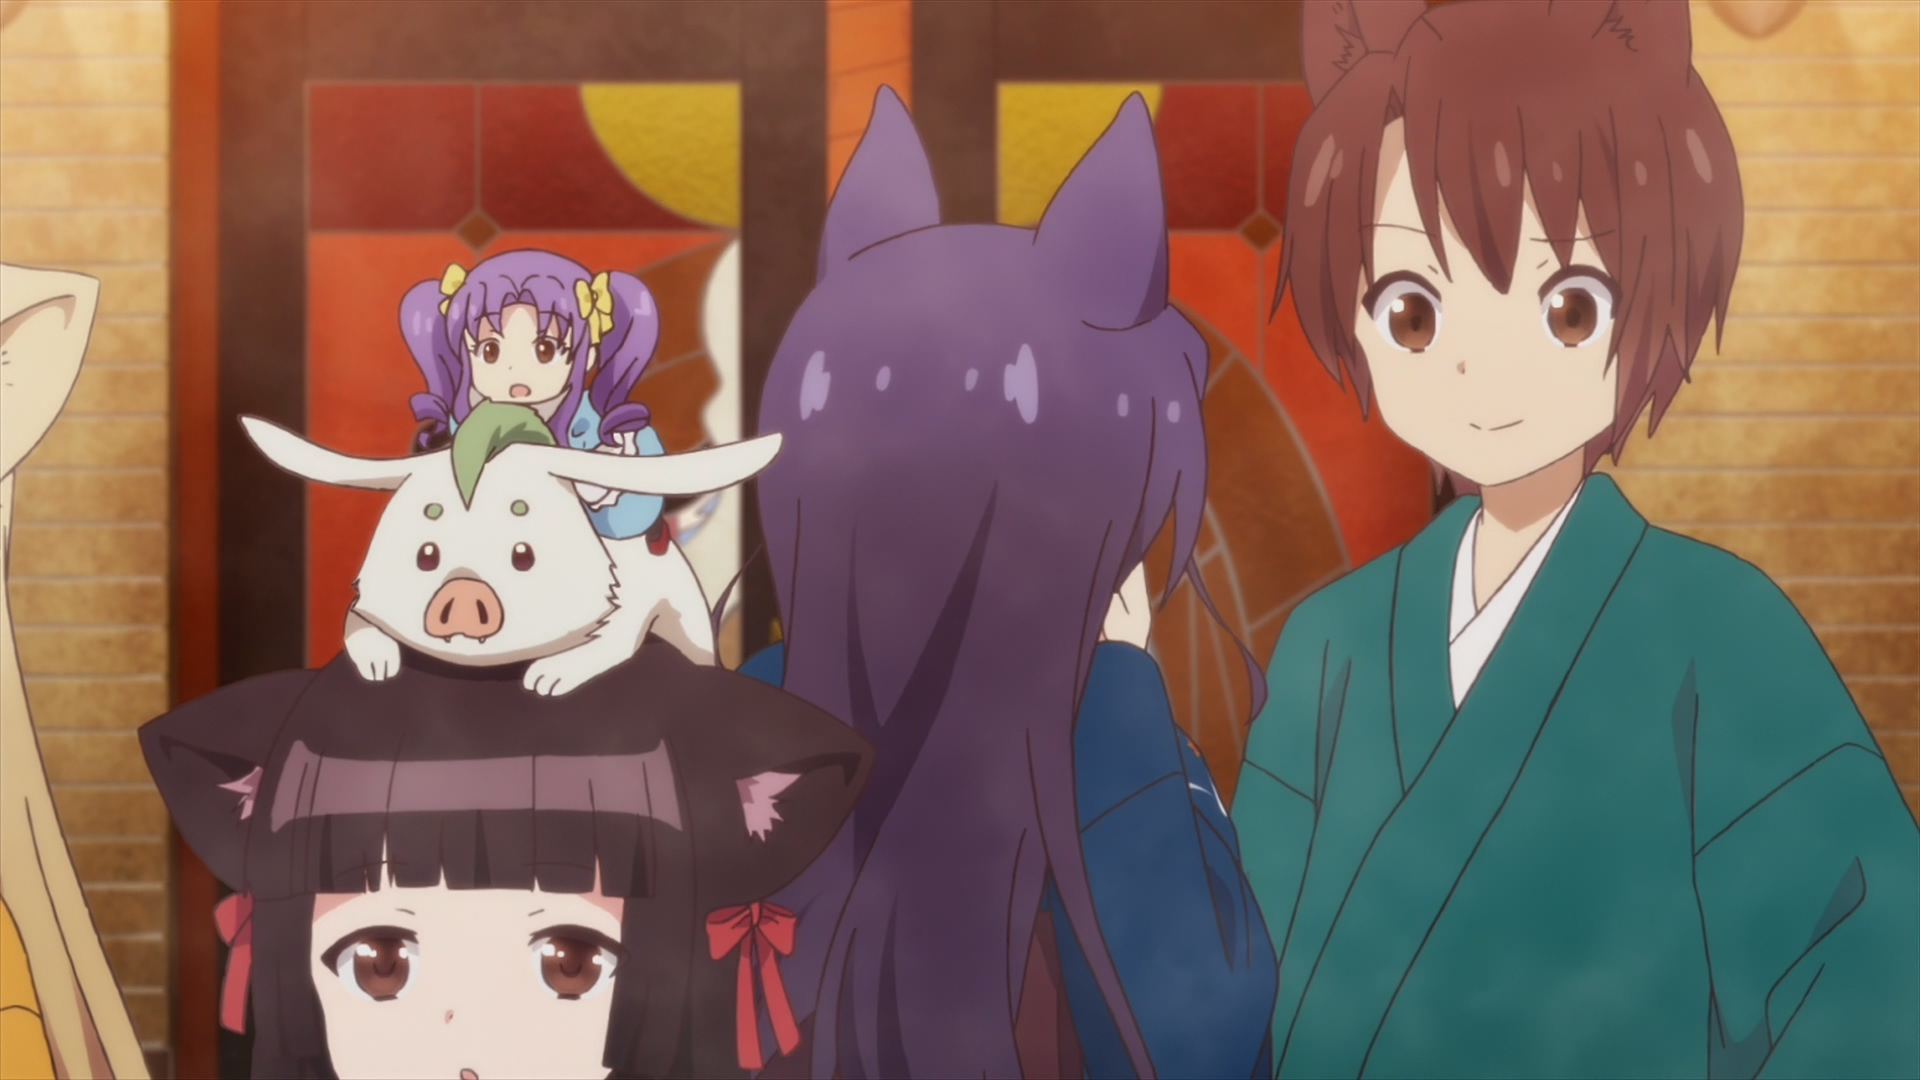枣: (1226, 1, 1920, 1080)
柚: (1, 262, 150, 1080)
樱: (141, 630, 880, 1080)
瓜之介: (239, 401, 785, 694)
皋: (731, 84, 1278, 1080)
阿菊: (400, 252, 669, 553)
